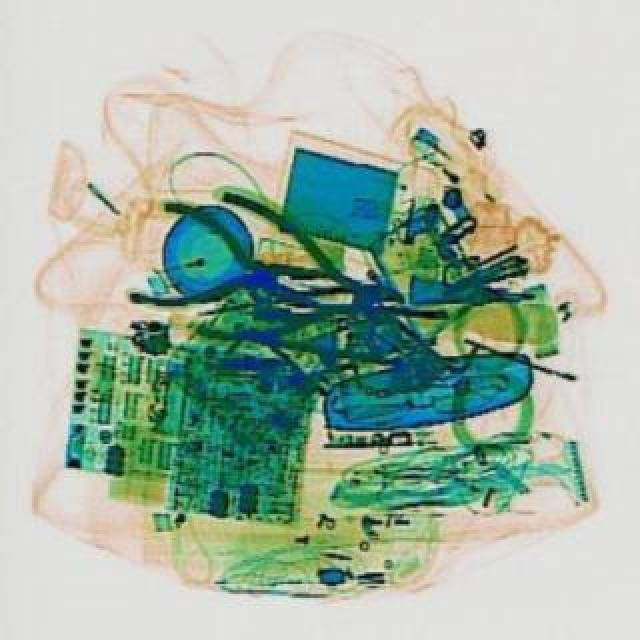wrench: (182, 186, 420, 374), (124, 194, 328, 332)
